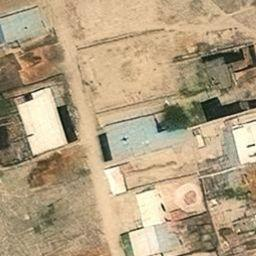manzanas: (74, 23, 253, 255), (0, 4, 109, 254)
